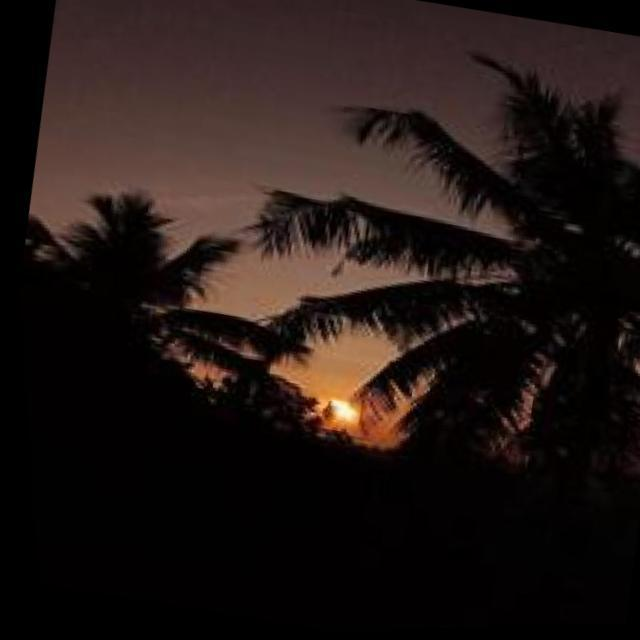sun: (322, 401, 353, 429)
